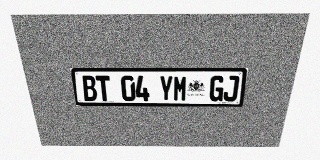0: (120, 76, 135, 101)
4: (135, 76, 149, 101)
B: (81, 76, 98, 101)
G: (209, 76, 225, 101)
J: (223, 76, 240, 101)
M: (173, 76, 188, 101)
T: (95, 76, 111, 101)
Y: (159, 76, 173, 101)
